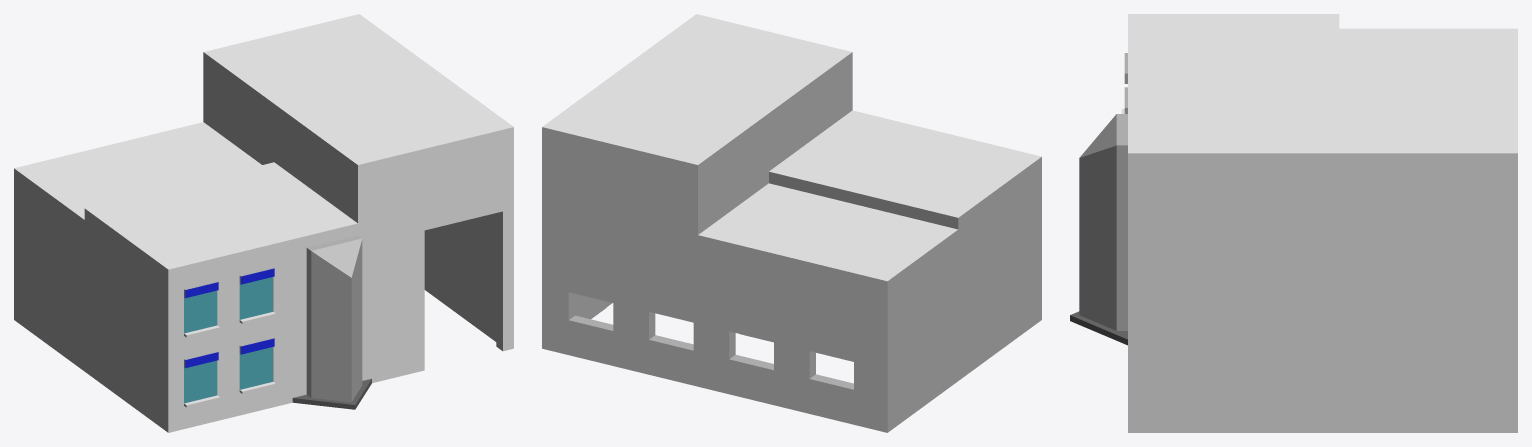
File: Halle.obj
3 views of the same model, side by side, from view 1: azimuth 30°, elevation 25°; view 2: azimuth 150°, elevation 25°; view 3: azimuth 270°, elevation 25° (orthographic). The views are drawn at different scales.
Visible parts, largest first — view 1: Volumenkörper1; view 2: Volumenkörper1; view 3: Volumenkörper1.
Part boxes in pixels (x1,y1,x2,y2): Volumenkörper1: (14,14,513,432); Volumenkörper1: (542,14,1041,432); Volumenkörper1: (1070,14,1517,432).
Size of the model in its own units: 15500 by 9500 by 13783.
